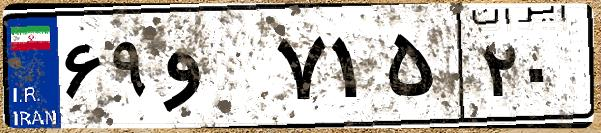0: (525, 38, 570, 115)
1: (330, 28, 385, 110)
2: (475, 38, 525, 113)
5: (385, 28, 445, 110)
6: (57, 26, 110, 100)
7: (270, 28, 330, 110)
9: (110, 28, 158, 98)
و: (158, 20, 270, 120)
